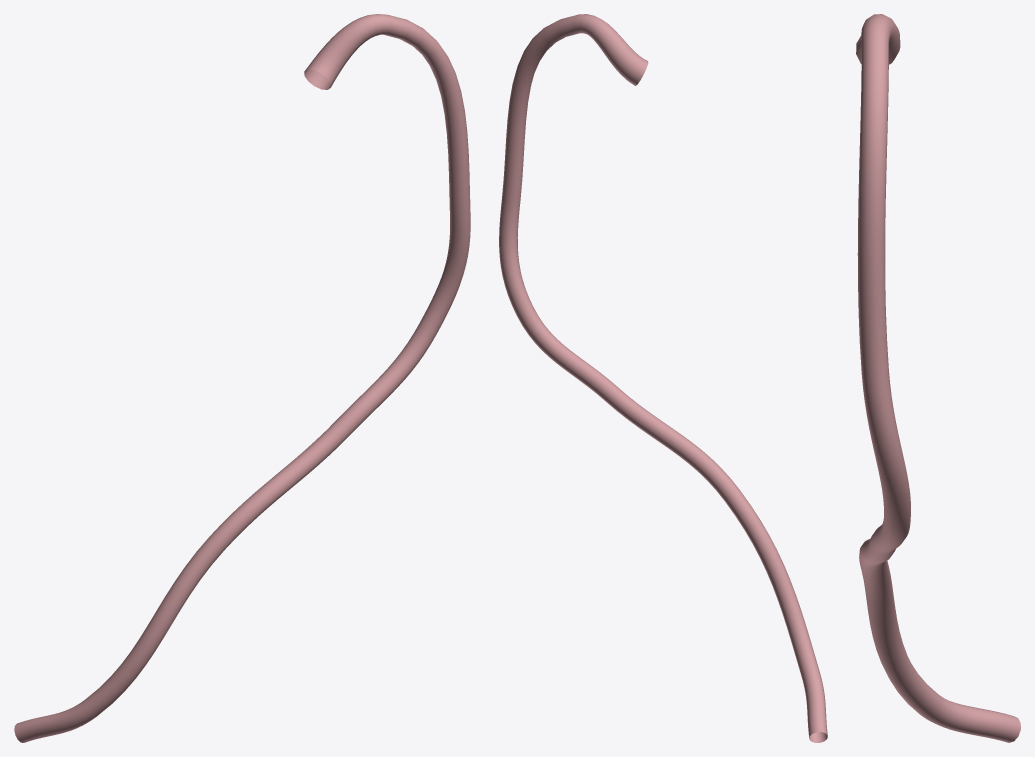
3 renders of one model, left to right at view 1: azimuth 30°, elevation 25°; view 2: azimuth 150°, elevation 25°; view 3: azimuth 270°, elevation 25°, orthographic. The views are drawn at different scales.
Visible parts, largest first — view 1: ZA_964edd09bb8fcf77; view 2: ZA_964edd09bb8fcf77; view 3: ZA_964edd09bb8fcf77.
Part boxes in pixels (box(x1,y1,x2,y2)): ZA_964edd09bb8fcf77: box(14, 14, 470, 742); ZA_964edd09bb8fcf77: box(499, 14, 827, 742); ZA_964edd09bb8fcf77: box(856, 14, 1020, 742).
Bounding box in the file's own units: 0.0452 × 0.0734 × 0.012.
